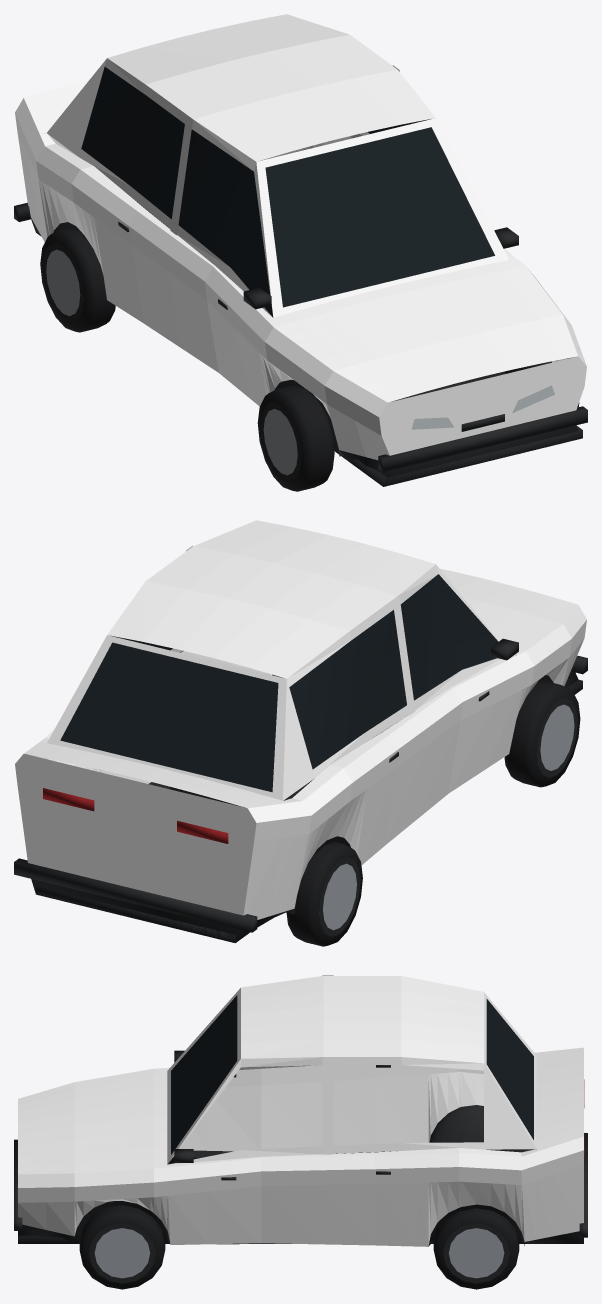
File: hozuki_semente.glb
The picture shows the model from 3 angles, top to bottom: view 1: azimuth 30°, elevation 25°; view 2: azimuth 150°, elevation 25°; view 3: azimuth 270°, elevation 25°; orthographic projection. The views are drawn at different scales.
Parts seen in each view (by area): view 1: Body_Paint, Body_Details, Mount_FrontLeft_Wheel_Details, Mount_RearLeft_Wheel_Details; view 2: Body_Paint, Body_Details, Mount_FrontLeft_Wheel_Details, Mount_RearLeft_Wheel_Details; view 3: Body_Paint, Body_Details, Mount_FrontRight_Wheel_Details, Mount_RearRight_Wheel_Details.
Boxes of the visible parts, x1=… form: Body_Paint: x1=15, y1=14, x2=586, y2=460; Body_Details: x1=14, y1=67, x2=587, y2=486; Mount_FrontLeft_Wheel_Details: x1=257, y1=385, x2=334, y2=491; Mount_RearLeft_Wheel_Details: x1=40, y1=227, x2=115, y2=332; Body_Paint: x1=15, y1=520, x2=586, y2=919; Body_Details: x1=14, y1=574, x2=587, y2=943; Mount_FrontLeft_Wheel_Details: x1=504, y1=680, x2=580, y2=787; Mount_RearLeft_Wheel_Details: x1=286, y1=842, x2=362, y2=946; Body_Paint: x1=18, y1=975, x2=583, y2=1246; Body_Details: x1=14, y1=995, x2=587, y2=1246; Mount_FrontRight_Wheel_Details: x1=79, y1=1205, x2=165, y2=1289; Mount_RearRight_Wheel_Details: x1=433, y1=1208, x2=519, y2=1289.
Size of the model in its own units: 1.76 by 1.64 by 3.83.
Materials: 2 (1 with a texture image).
